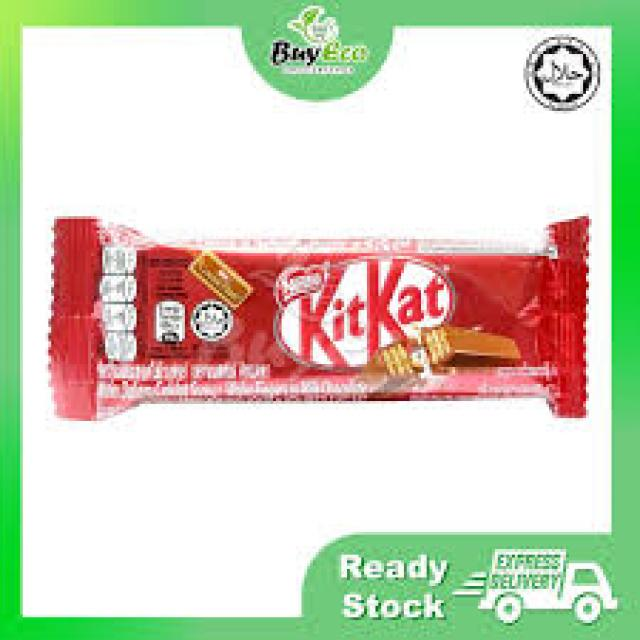kitkat: (52, 218, 589, 424)
